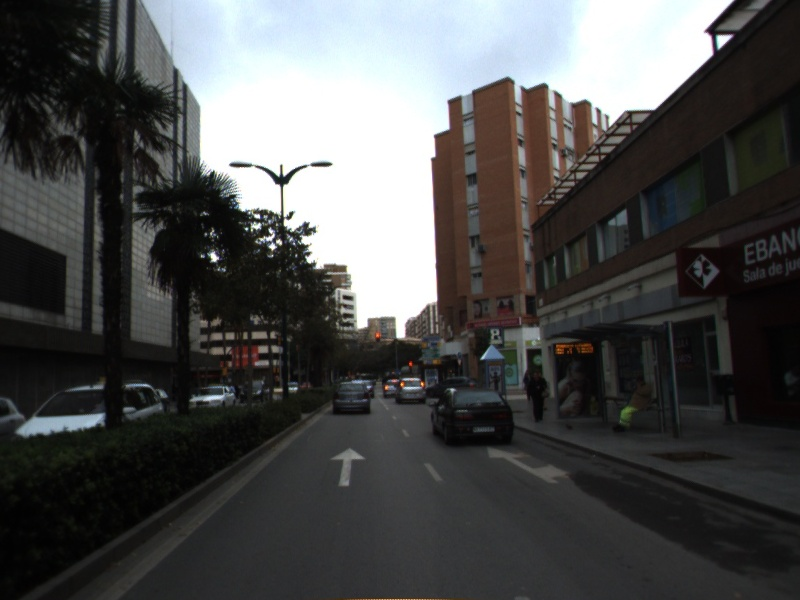STRAIGHT: (328, 446, 367, 488)
STRAIGHT_RIGHT: (485, 445, 573, 485)
